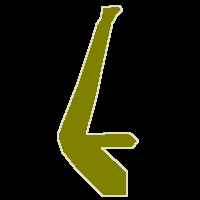tie: (58, 6, 138, 196)
